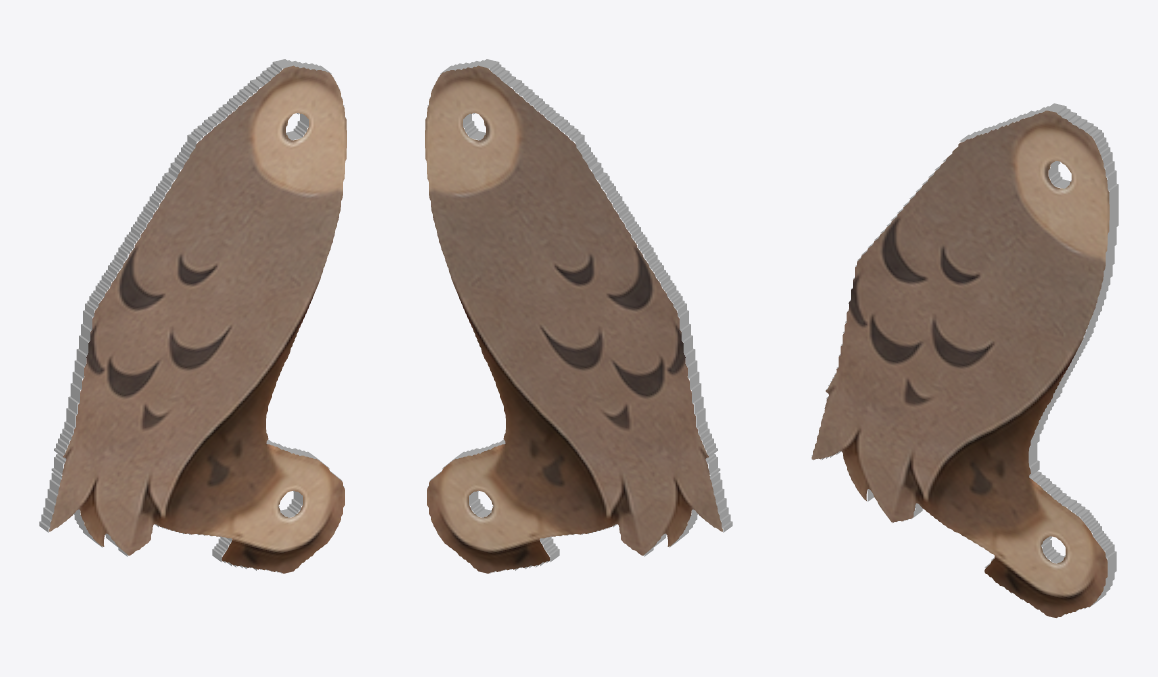
The model's file is Variant01Upper.glb.
3 views of the same model, side by side, from view 1: azimuth 30°, elevation 25°; view 2: azimuth 150°, elevation 25°; view 3: azimuth 330°, elevation 25° (orthographic).
Visible parts, largest first — view 1: PaperVolume; view 2: PaperVolume; view 3: PaperVolume.
Boxes of the visible parts, box(x1,y1,x2,y2) form: PaperVolume: box(39, 59, 346, 573); PaperVolume: box(425, 59, 732, 573); PaperVolume: box(811, 103, 1118, 617).
Bounding box in the file's own units: 1.72 × 2.63 × 0.08.
3 materials, 2 textured.
